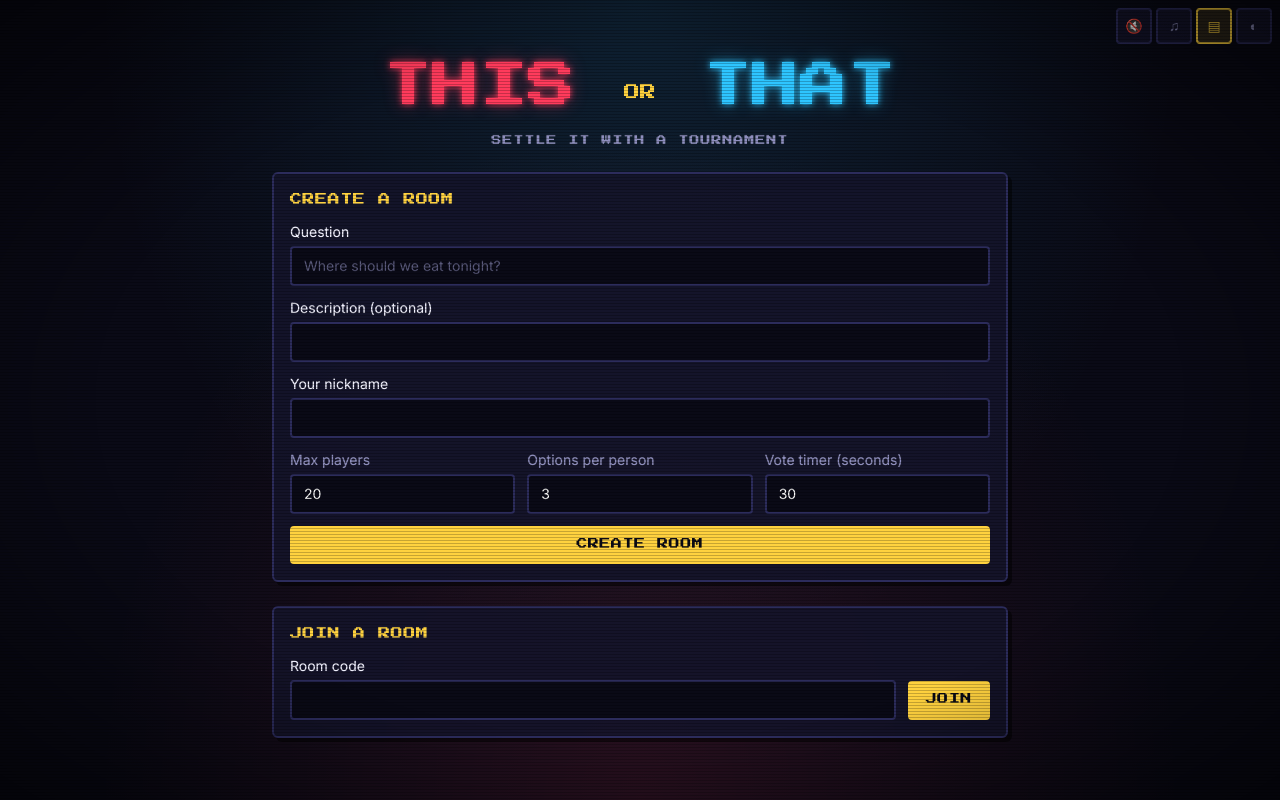
Landing page › shows the server error when creation fails
Type "x" into the field labelled "Question" at (640, 266), box [290, 246, 990, 286]
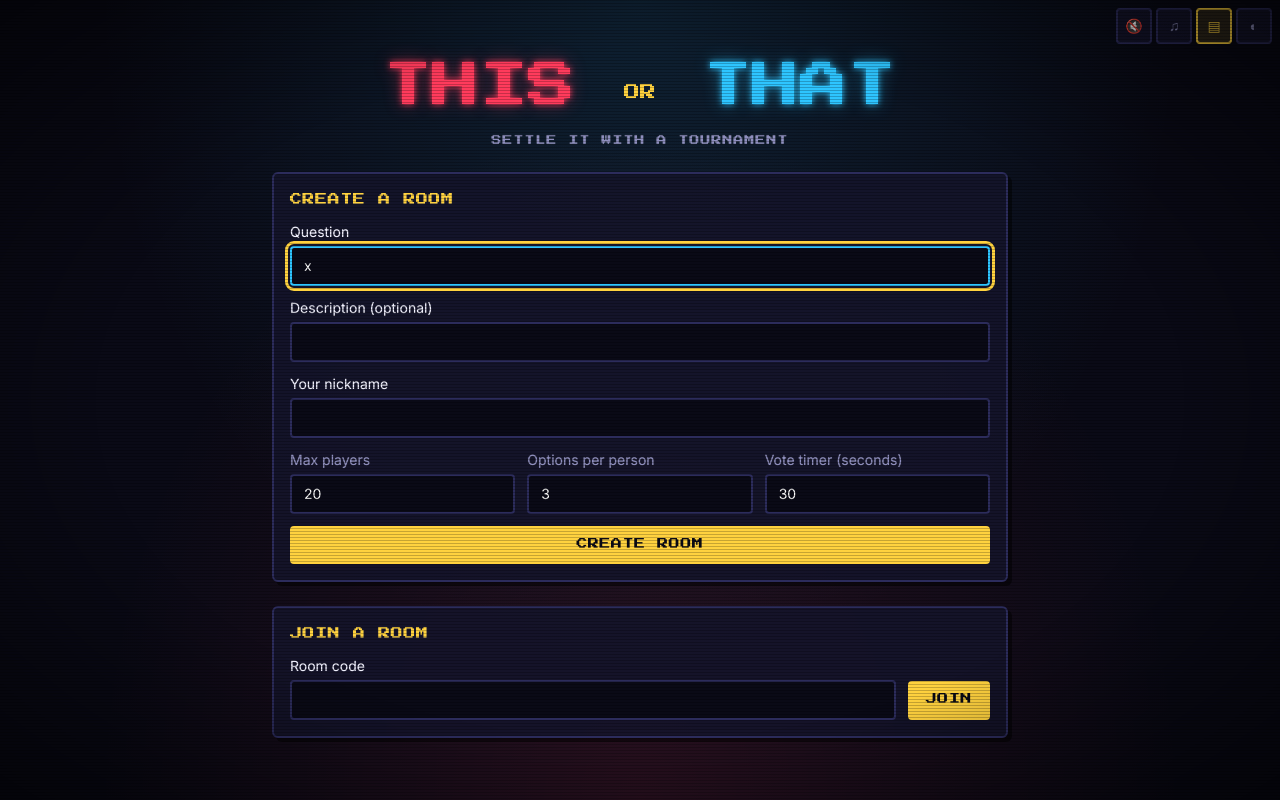
Type "Ana" into the field labelled "Your nickname" at (640, 418), box [290, 398, 990, 438]
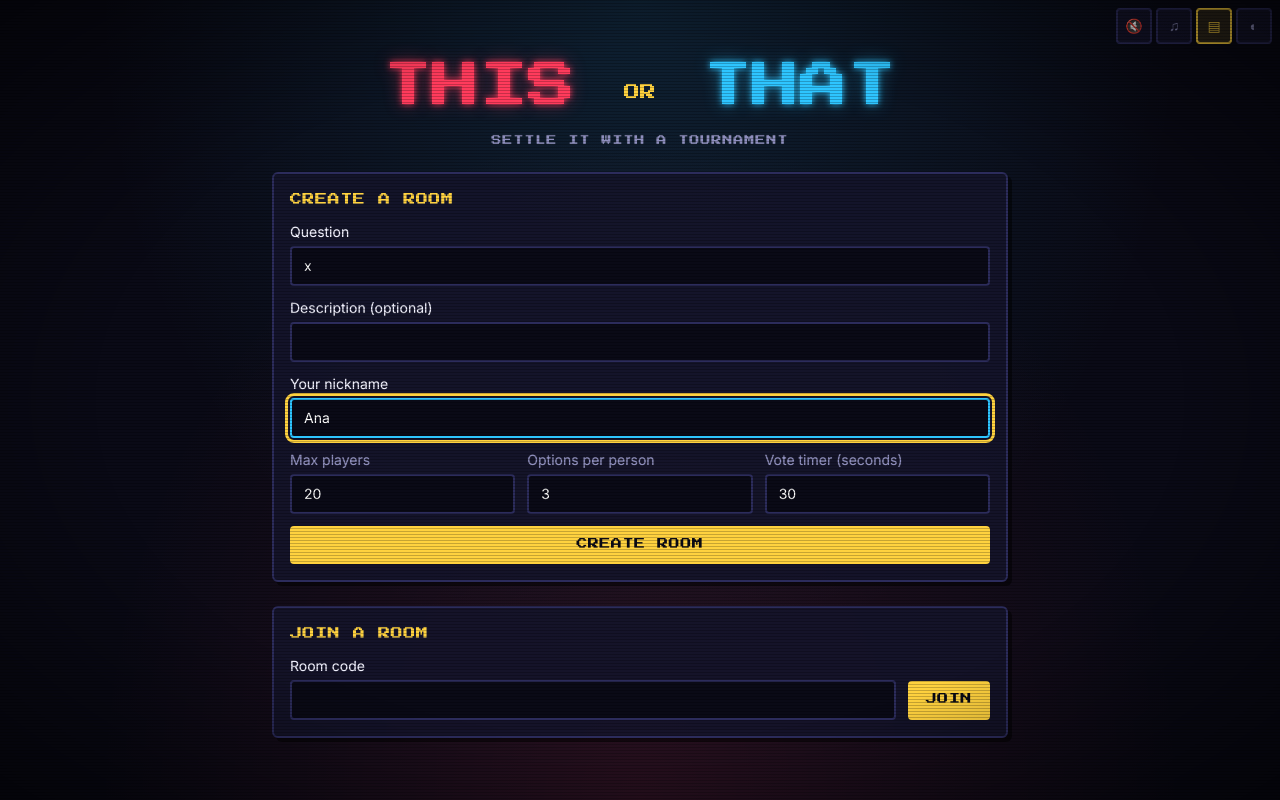
Click the button "Create room" at (640, 545), box [290, 526, 990, 564]
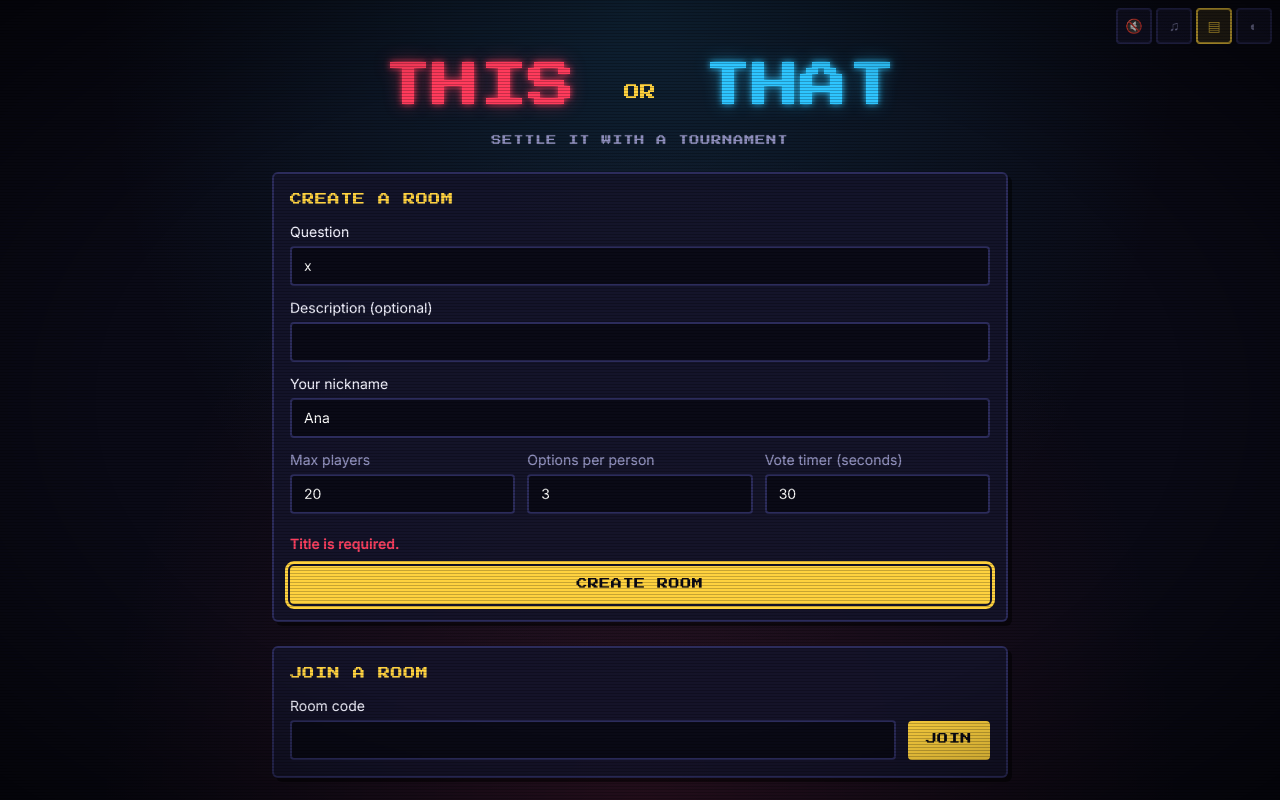
Expected: the message reads "Title is required.", [290, 535, 400, 552]
